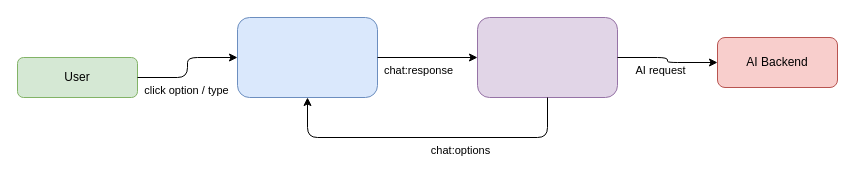
Image size: 855x175. Some labels were removed from this diagram. Here are the shapes that lost their labels. From the top down, the box of each, then its label:
(236, 16, 378, 98): Webview (Chat Panel)
(476, 16, 618, 98): Extension Host
